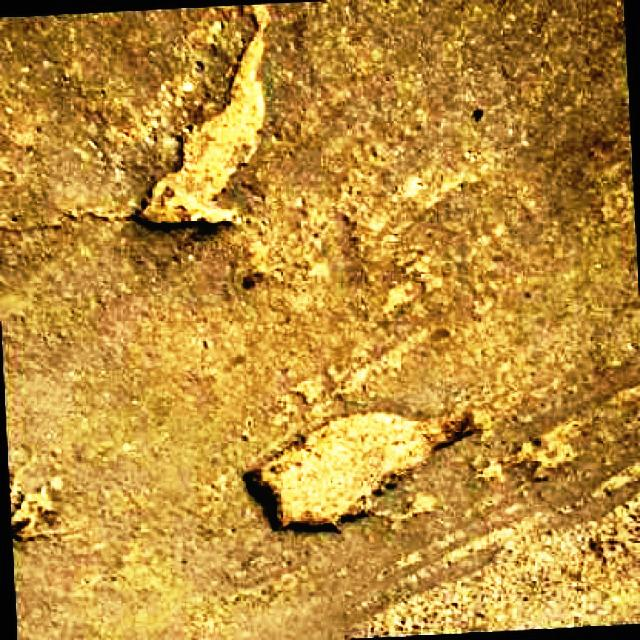pothole: (132, 0, 282, 228), (240, 414, 454, 532), (0, 477, 63, 540), (517, 426, 569, 488)
